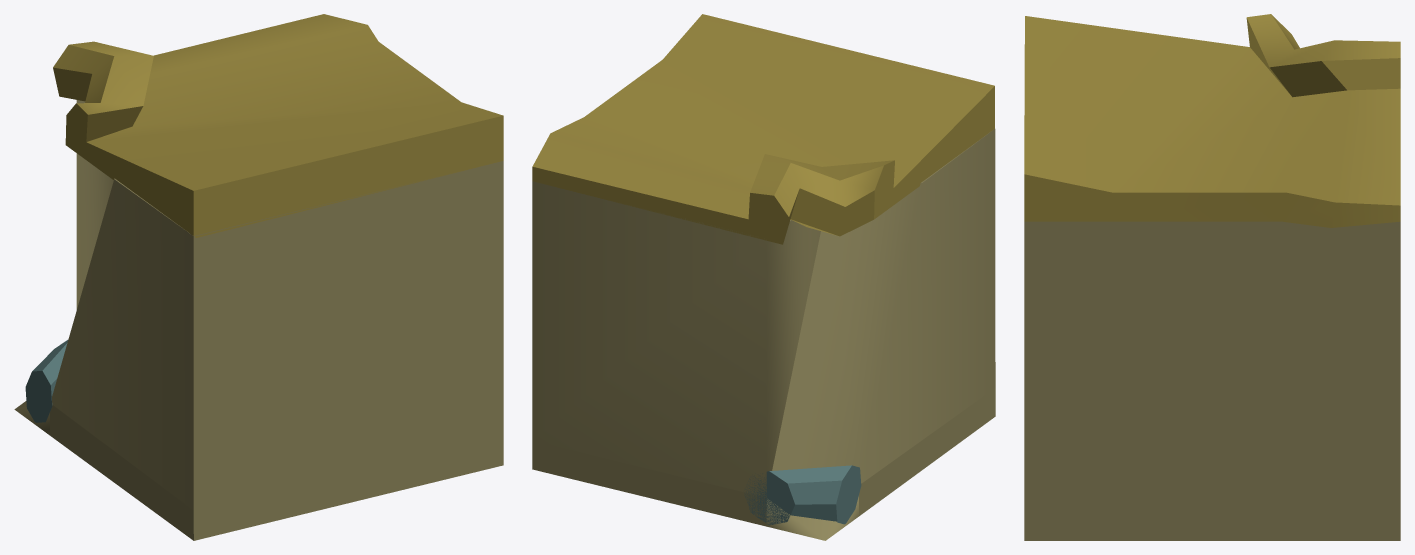
The model's file is Int_13_Wall_Cross_connector__26.fbx.
The picture shows the model from 3 angles, left to right: view 1: azimuth 30°, elevation 25°; view 2: azimuth 150°, elevation 25°; view 3: azimuth 270°, elevation 25°; orthographic projection. The views are drawn at different scales.
Visible parts, largest first — view 1: Int_13_Wall_Cross_connector__26; view 2: Int_13_Wall_Cross_connector__26; view 3: Int_13_Wall_Cross_connector__26.
Boxes of the visible parts, left/top/right/bottom form: Int_13_Wall_Cross_connector__26: left=14, top=14, right=503, bottom=540; Int_13_Wall_Cross_connector__26: left=532, top=14, right=995, bottom=540; Int_13_Wall_Cross_connector__26: left=1024, top=14, right=1400, bottom=540.
Bounding box in the file's own units: 1.04 × 1.1 × 0.9986.
